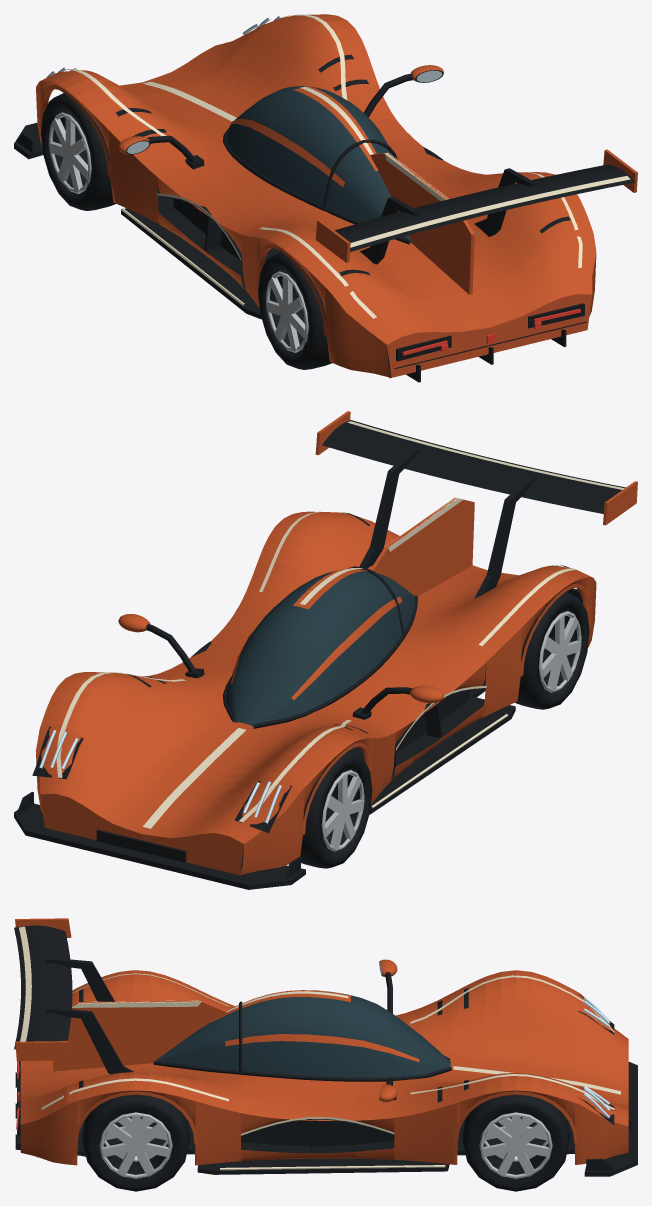
Rendered from prototype-low.glb.
3 views of the same model, one above another, from view 1: azimuth 30°, elevation 25°; view 2: azimuth 150°, elevation 25°; view 3: azimuth 270°, elevation 25° (orthographic). The views are drawn at different scales.
Parts seen in each view (by area): view 1: body_paint, body_carbon, body_glass, wheel_carbon (×2), body_accent, wheel_rim (×2), body_rearLights; view 2: body_paint, body_carbon, body_glass, wheel_carbon (×2), body_accent, wheel_rim (×2), body_lights; view 3: body_paint, body_carbon, body_glass, wheel_carbon (×2), wheel_rim (×2), body_accent, body_lights.
Part boxes in pixels (left/top/right/bottom): body_paint: left=36, top=14, right=637, bottom=377; body_carbon: left=14, top=28, right=635, bottom=382; body_glass: left=226, top=86, right=411, bottom=243; wheel_carbon (×2): left=40, top=93, right=332, bottom=369; body_accent: left=66, top=14, right=630, bottom=318; wheel_rim (×2): left=48, top=112, right=308, bottom=352; body_rearLights: left=402, top=308, right=580, bottom=355; body_paint: left=36, top=411, right=637, bottom=875; body_carbon: left=14, top=420, right=625, bottom=889; body_glass: left=226, top=570, right=415, bottom=727; wheel_carbon (×2): left=300, top=591, right=589, bottom=868; body_accent: left=56, top=421, right=624, bottom=828; wheel_rim (×2): left=321, top=611, right=581, bottom=851; body_lights: left=39, top=730, right=281, bottom=823; body_paint: left=15, top=918, right=628, bottom=1165; body_carbon: left=14, top=925, right=637, bottom=1176; body_glass: left=155, top=990, right=450, bottom=1077; wheel_carbon (×2): left=82, top=1094, right=569, bottom=1191; wheel_rim (×2): left=99, top=1112, right=552, bottom=1178; body_accent: left=19, top=926, right=620, bottom=1170; body_lights: left=583, top=997, right=609, bottom=1118.
Bounding box in the file's own units: 1.25 × 0.656 × 2.38.
